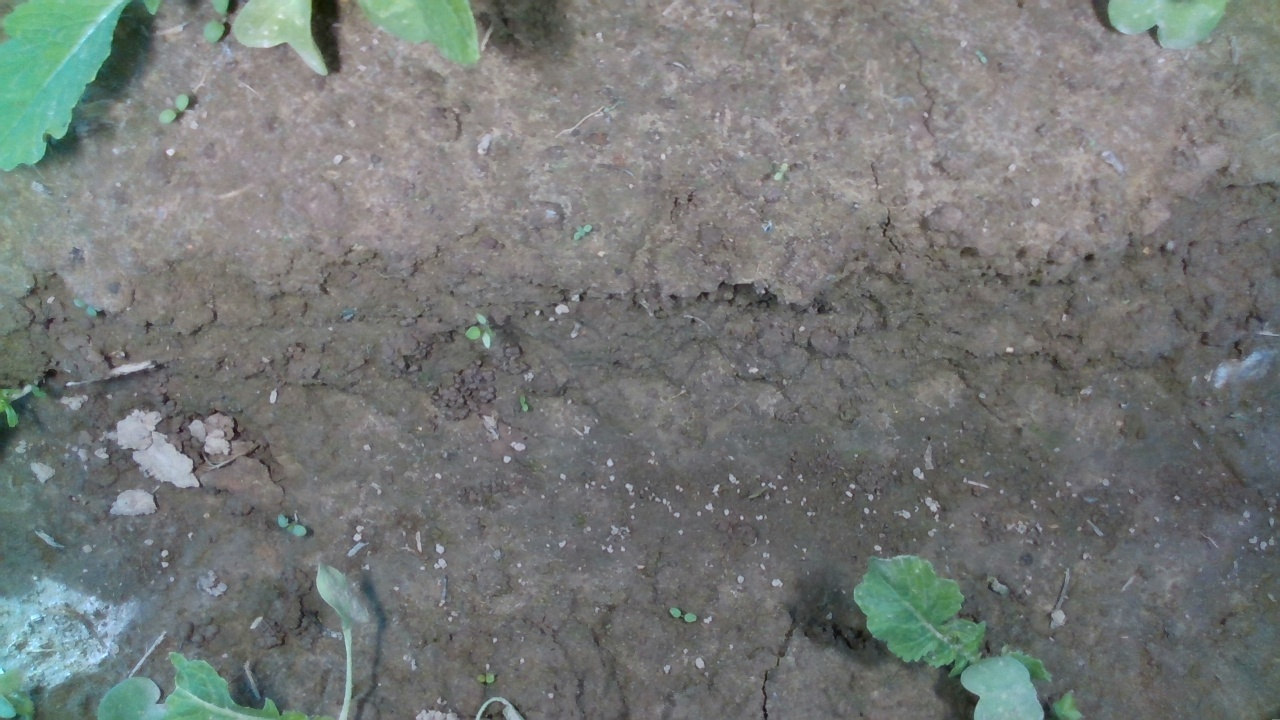weed: (462, 311, 496, 350), (155, 92, 189, 126), (276, 513, 308, 538), (668, 605, 698, 624), (770, 158, 789, 182), (572, 222, 592, 242), (476, 671, 496, 685), (518, 391, 529, 412)
